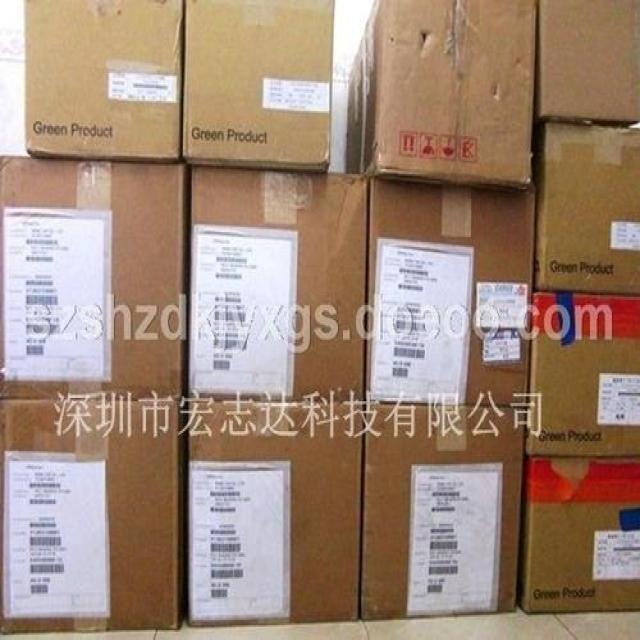box: (0, 153, 190, 400), (0, 399, 188, 633), (188, 161, 368, 402), (187, 401, 365, 623), (365, 175, 533, 408), (361, 402, 527, 620), (347, 1, 536, 191), (180, 0, 337, 171), (23, 0, 186, 161), (516, 455, 639, 615), (524, 290, 639, 456), (530, 123, 639, 293), (534, 0, 639, 124)
